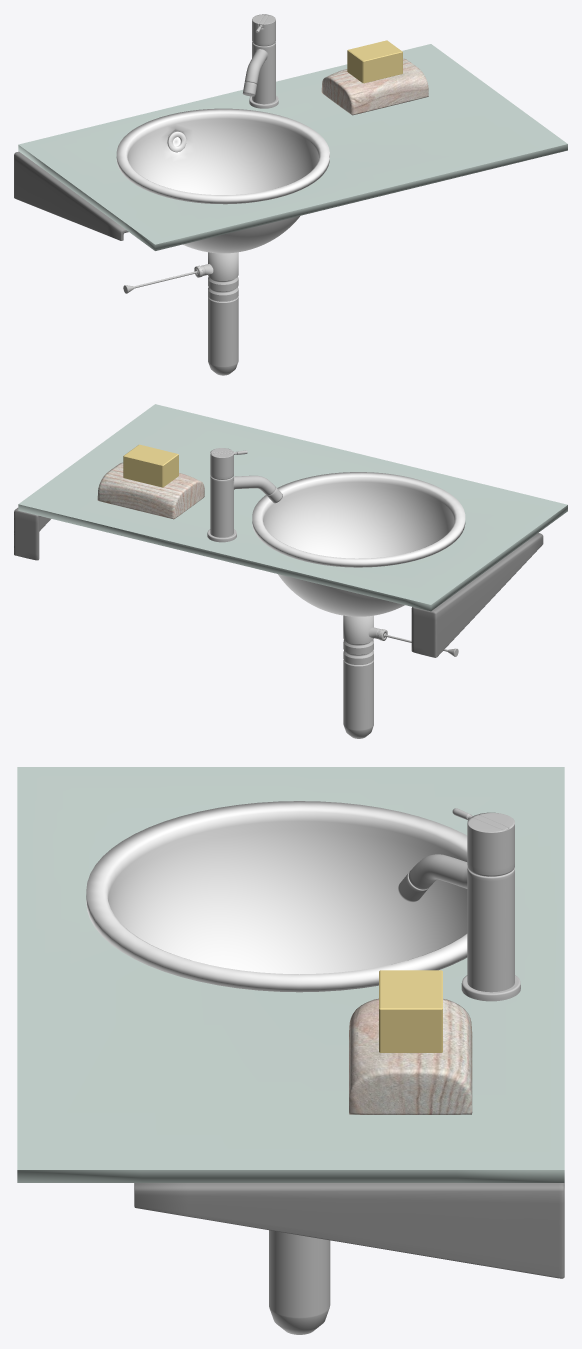
The model's file is bathroom3.glb.
The picture shows the model from 3 angles, top to bottom: view 1: azimuth 30°, elevation 25°; view 2: azimuth 150°, elevation 25°; view 3: azimuth 270°, elevation 25°; orthographic projection. The views are drawn at different scales.
Parts seen in each view (by area): view 1: cristal_bajo_Circle, pica_agujereada_Sphere.001, tuberia_desague_Cylinder, cristal_bajo.002_Circle.001, soporte_r_Plane.001, jabonera_madera_Cube.003, grifo_mono_Circle.003, jabon_Cube.004; view 2: cristal_bajo_Circle, pica_agujereada_Sphere.001, soporte_r_Plane.001, tuberia_desague_Cylinder, cristal_bajo.002_Circle.001, jabonera_madera_Cube.003, grifo_mono_Circle.003, jabon_Cube.004, soporte_l_Plane.002; view 3: cristal_bajo_Circle, pica_agujereada_Sphere.001, soporte_l_Plane.002, grifo_mono_Circle.003, jabonera_madera_Cube.003, cristal_bajo.002_Circle.001, tuberia_desague_Cylinder, jabon_Cube.004.
Boxes of the visible parts, left/top/right/bottom form: cristal_bajo_Circle: left=18, top=44, right=567, bottom=244; pica_agujereada_Sphere.001: left=116, top=108, right=329, bottom=253; tuberia_desague_Cylinder: left=123, top=252, right=238, bottom=375; cristal_bajo.002_Circle.001: left=18, top=144, right=567, bottom=250; soporte_r_Plane.001: left=14, top=151, right=128, bottom=240; jabonera_madera_Cube.003: left=321, top=58, right=428, bottom=115; grifo_mono_Circle.003: left=242, top=14, right=278, bottom=108; jabon_Cube.004: left=347, top=40, right=402, bottom=83; cristal_bajo_Circle: left=18, top=404, right=567, bottom=604; pica_agujereada_Sphere.001: left=252, top=472, right=465, bottom=616; soporte_r_Plane.001: left=411, top=533, right=543, bottom=657; tuberia_desague_Cylinder: left=343, top=615, right=458, bottom=738; cristal_bajo.002_Circle.001: left=18, top=504, right=567, bottom=611; jabonera_madera_Cube.003: left=97, top=462, right=204, bottom=519; grifo_mono_Circle.003: left=207, top=448, right=282, bottom=542; jabon_Cube.004: left=123, top=444, right=178, bottom=487; soporte_l_Plane.002: left=14, top=508, right=50, bottom=560; cristal_bajo_Circle: left=17, top=767, right=564, bottom=1169; pica_agujereada_Sphere.001: left=86, top=801, right=467, bottom=992; soporte_l_Plane.002: left=134, top=1183, right=564, bottom=1278; grifo_mono_Circle.003: left=398, top=808, right=520, bottom=1001; jabonera_madera_Cube.003: left=349, top=998, right=472, bottom=1114; cristal_bajo.002_Circle.001: left=17, top=1170, right=564, bottom=1182; tuberia_desague_Cylinder: left=269, top=1230, right=330, bottom=1334; jabon_Cube.004: left=379, top=970, right=442, bottom=1052.
Size of the model in its own units: 0.7198 by 0.4844 by 0.4038.
Materials: 9 (2 with a texture image).
